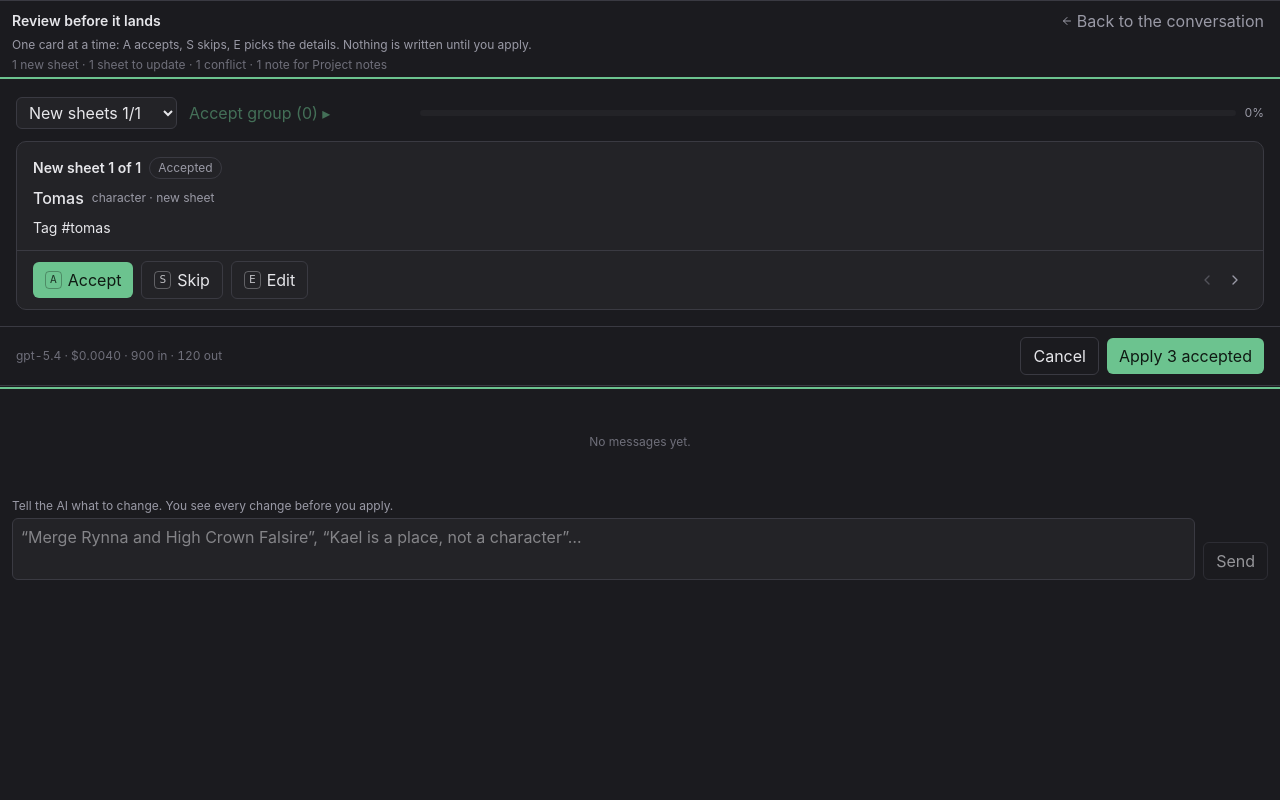
ContextUploadDialog (F-9.8) › changes the review from the chat: the reply, each change, the card marked, and Undo (F-9.9)
Expected: the button with test id "review-chat-send" is disabled, [1203,542,1268,580]
In the text box with test id "review-chat-input": coordinates (604, 549) [12,518,1195,580], type "Tomas is also Tom"
Then press Enter
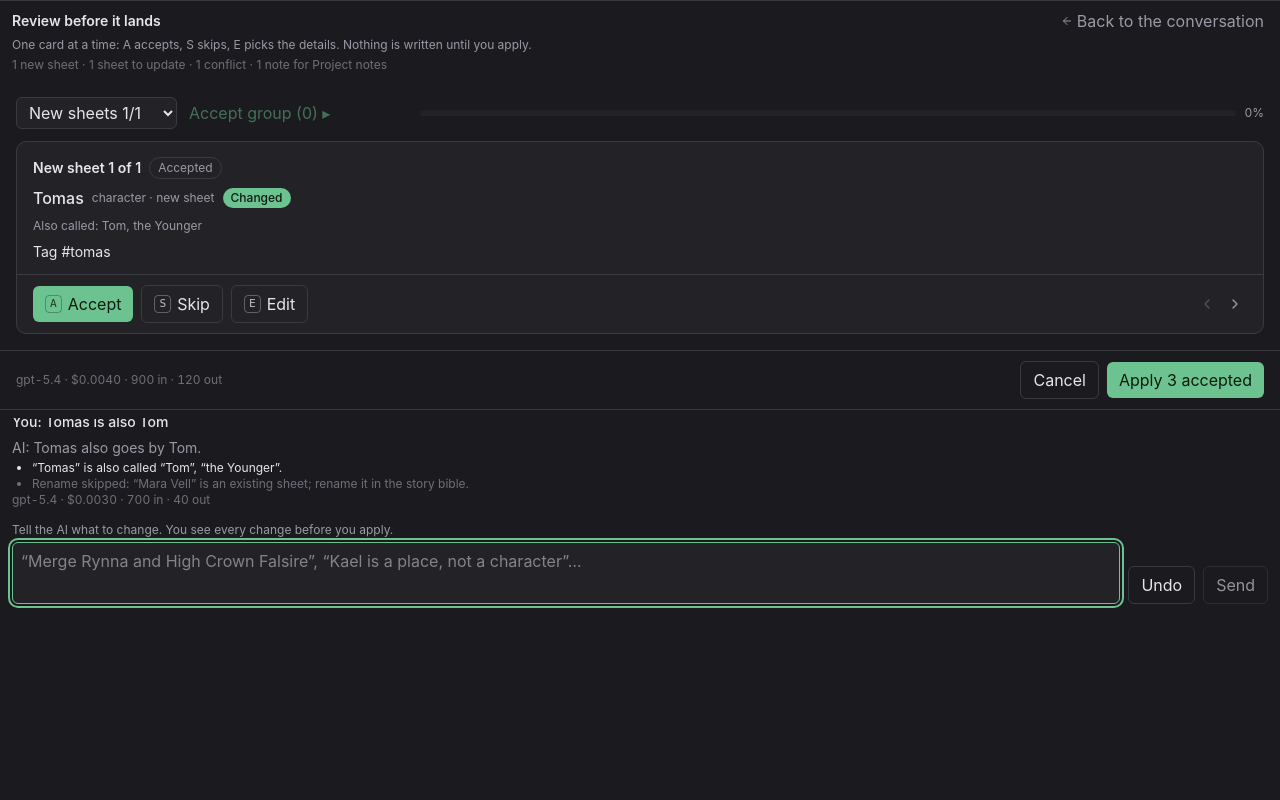
Now the list item with test id "review-chat-entry" shows "AI: Tomas also goes by Tom.", box [12,439,469,507]
Now the text "Changed" is shown, box [222,188,290,208]
Now the text with test id "library-item-aliases" reads "Also called: Tom, the Younger", box [33,218,202,233]
# The next card, Mara, was not touched.
Click the button with test id "review-next": coordinates (1235, 304) [1223,292,1247,316]
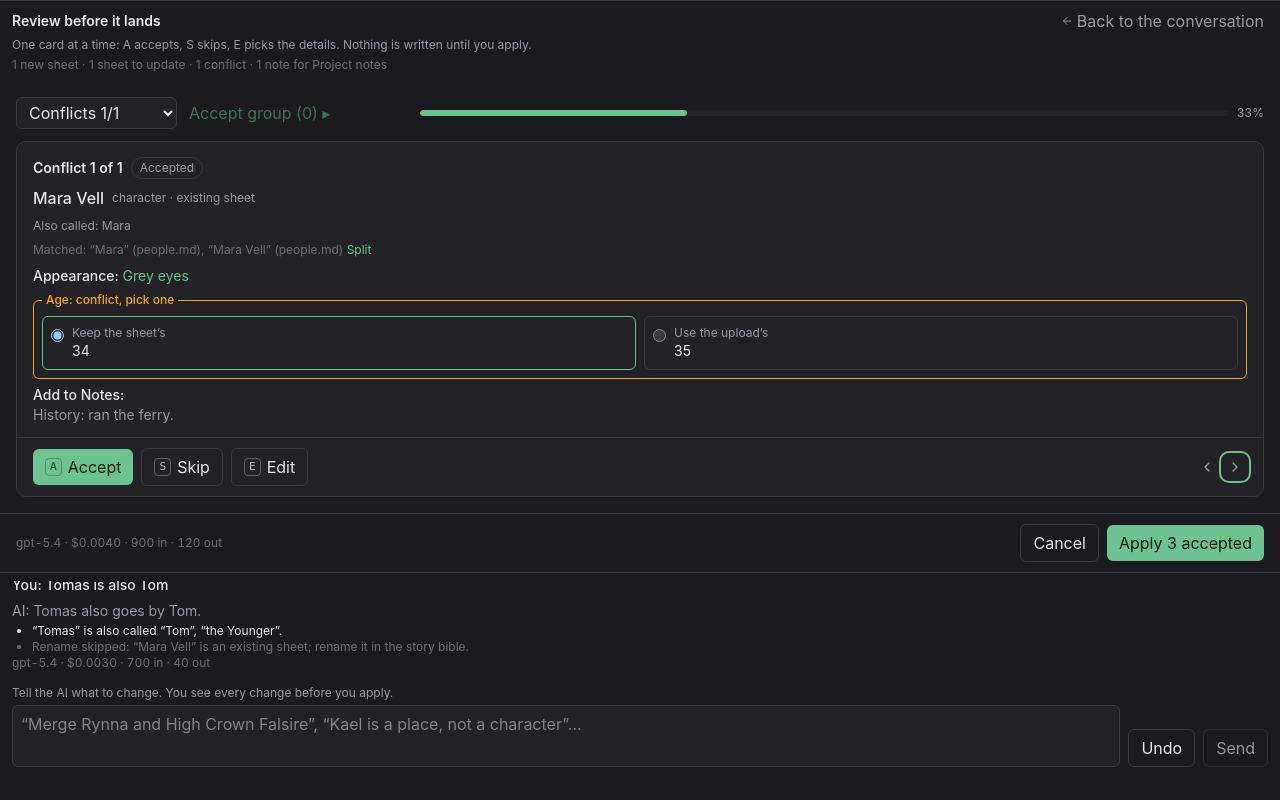
Now the element with test id "library-item" shows "Also called: Mara", box [33,218,131,233]
Click the button with test id "review-prev": coordinates (1207, 467) [1195,455,1219,479]
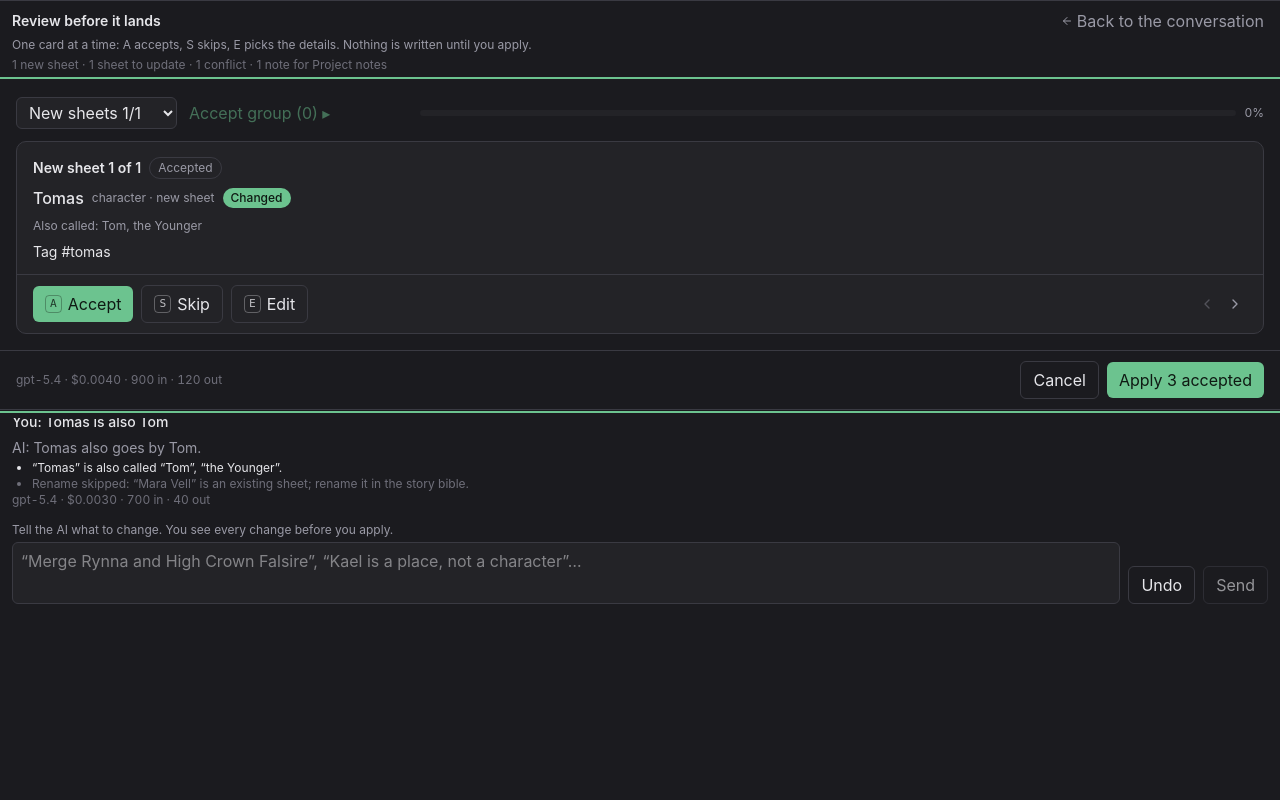
Click the button with test id "review-chat-undo": coordinates (1162, 585) [1128,566,1195,604]
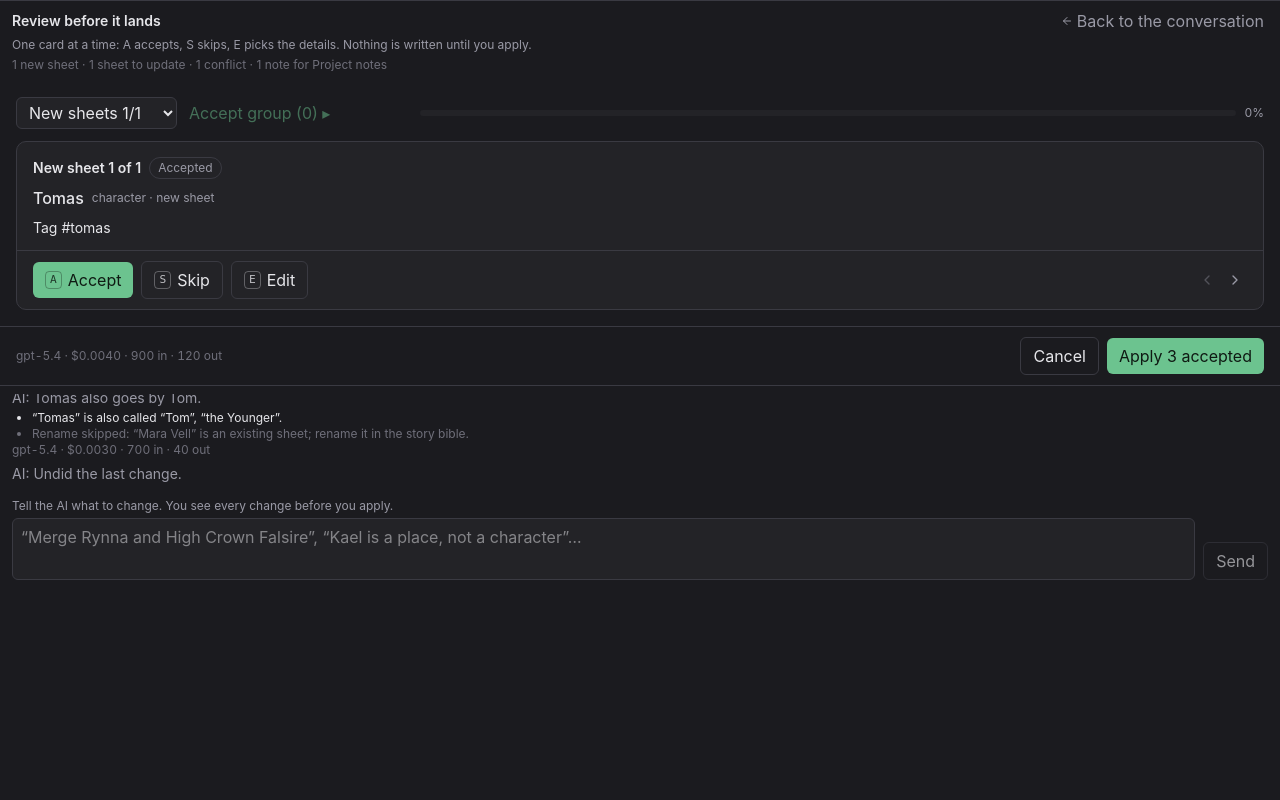
Now the text with test id "library-item-changed" is gone
Now the text "Also called: Tom, the Younger" is gone
Now the list item with test id "review-chat-entry" shows "Undid the last change.", box [33,465,182,482]
